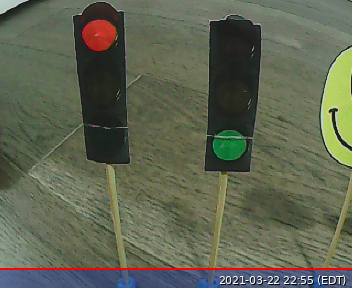Green Traffic Light: (203, 13, 261, 172)
Red Traffic Light: (73, 1, 131, 164)
